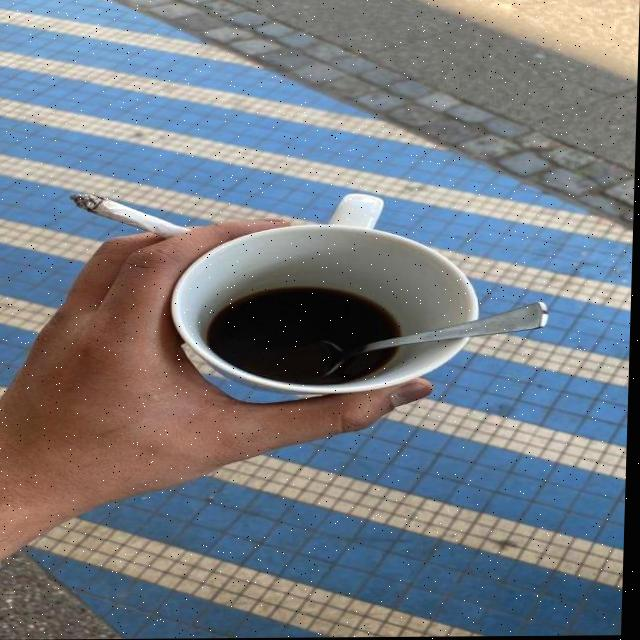cigarette: (69, 190, 185, 238)
